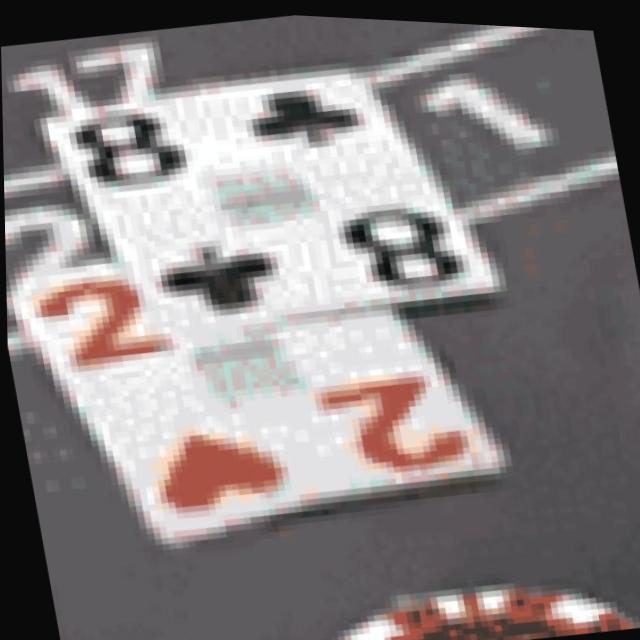Card-2: (10, 260, 508, 543)
Card-8: (40, 63, 497, 331)
